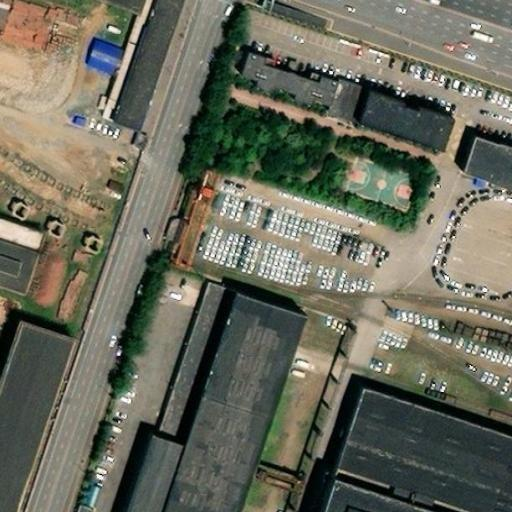building: (170, 285, 307, 512), (304, 377, 511, 512), (0, 322, 80, 512), (159, 297, 233, 461), (247, 61, 344, 115), (363, 101, 451, 159), (166, 174, 217, 267), (139, 453, 182, 512), (52, 261, 88, 318), (81, 32, 124, 73), (474, 164, 512, 206), (333, 320, 357, 355), (4, 190, 29, 215), (76, 225, 102, 249), (40, 211, 65, 234), (66, 243, 91, 265)
